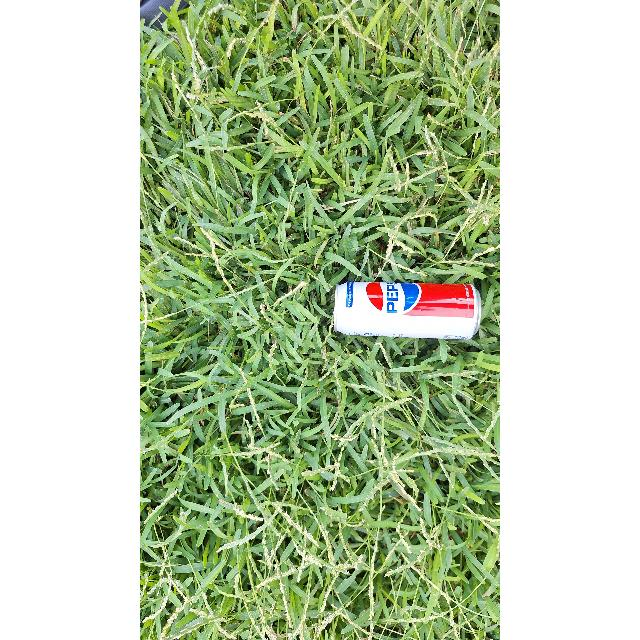Pepsi Retro: (332, 275, 482, 345)
